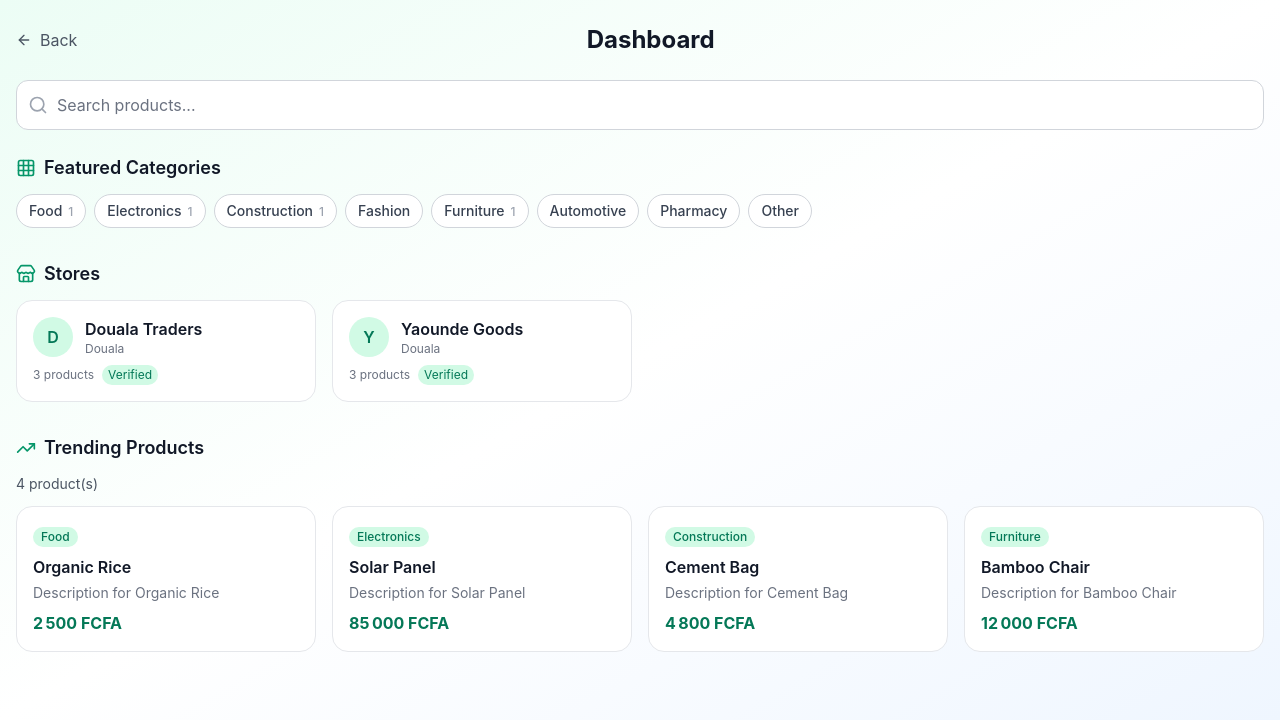
it: BuyerDashboard › shows an empty state when no products match the selected category
Expected: the heading "Organic Rice" is shown, [33, 557, 131, 577]
Click the button with test id "category-Automotive" at (588, 211), box [537, 194, 639, 228]
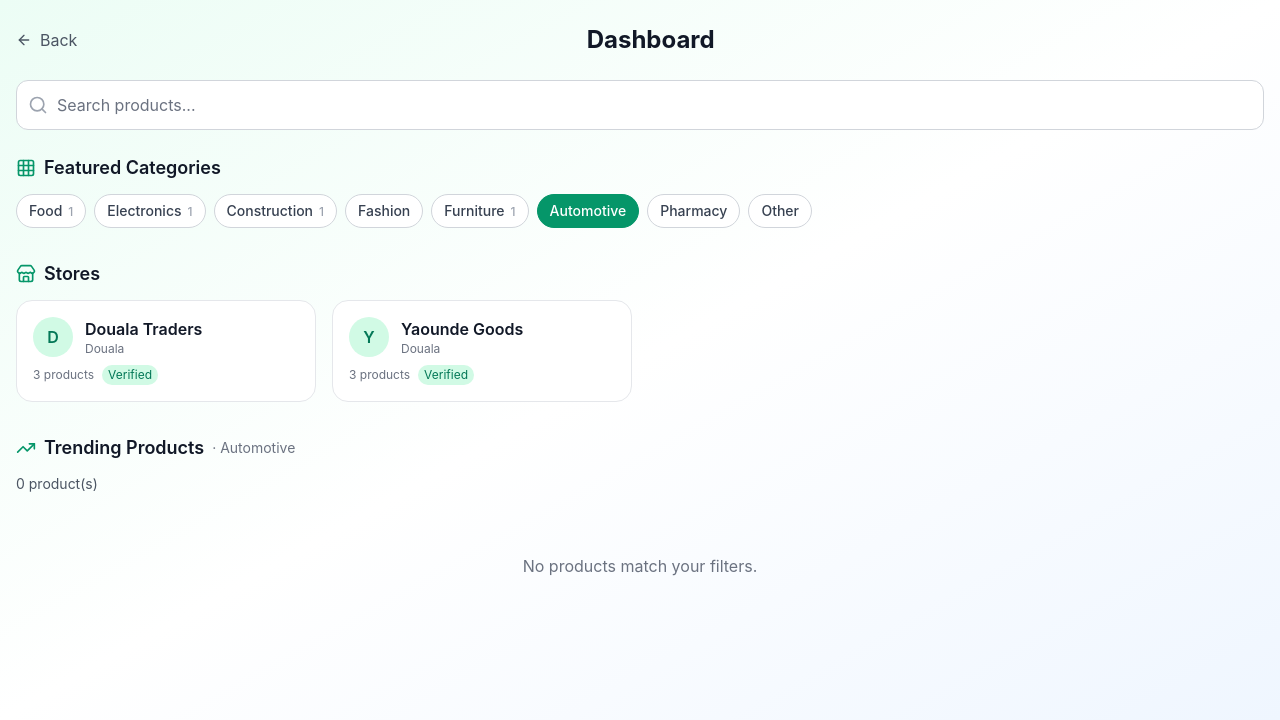
Expected: the text "No products match your filters." is shown, [523, 556, 757, 576]
